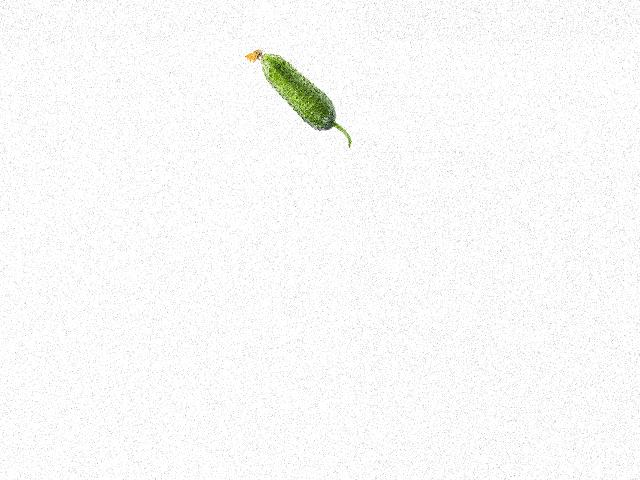cucumber: (244, 49, 350, 147)
